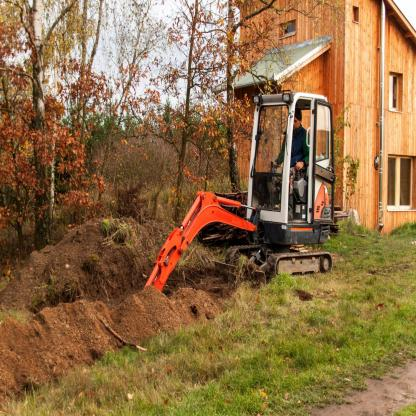excavator: (146, 58, 355, 331)
